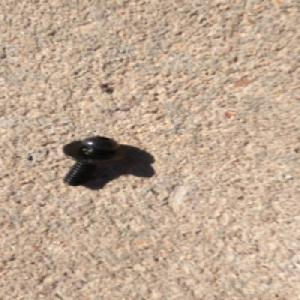BoltWasher: (58, 134, 128, 187)
